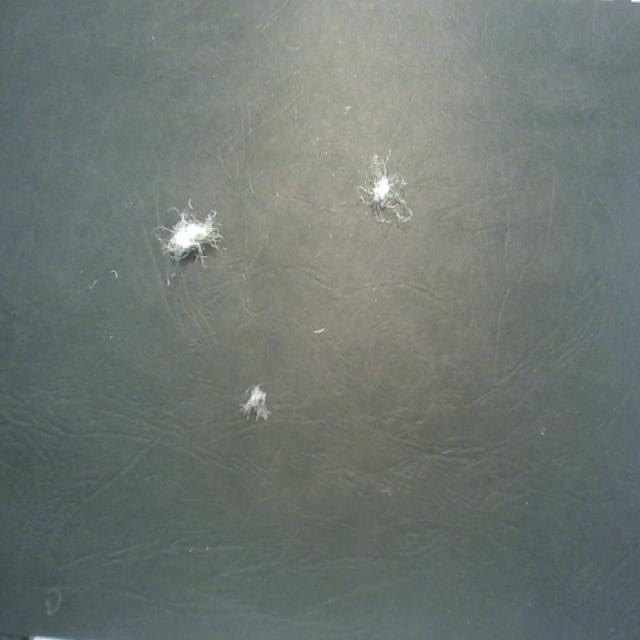feather: (158, 196, 230, 272), (355, 160, 409, 224), (242, 380, 270, 421)
